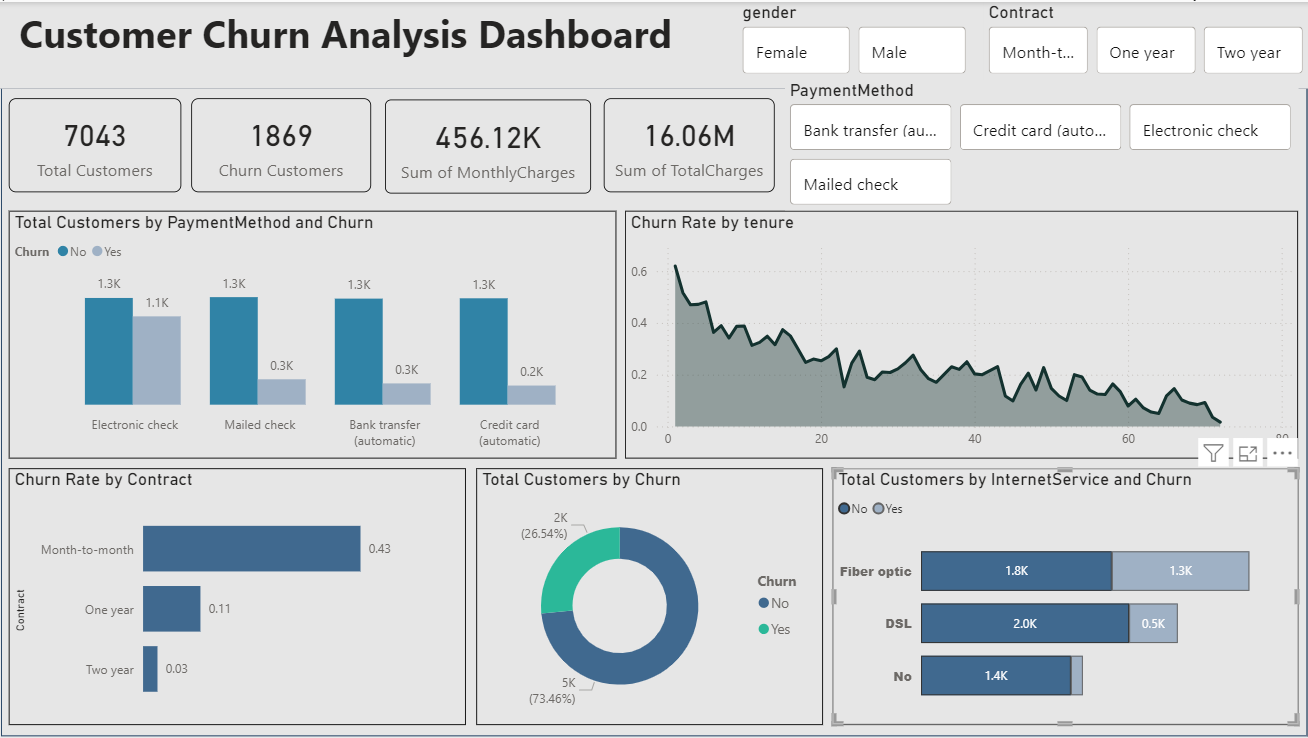

Layout of this report page (visuals, bound fields, positions):
{"tool":"powerbi","page":{"name":"DASHBOARD","canvas":[1280,720],"ordinal":2},"visuals":[{"type":"shape","box":[0,0,1280.3,719.7],"z":0},{"type":"shape","box":[0,0,1280.3,84.5],"z":1000},{"type":"barChart","fields":{"Category":["telco customer churan file.Contract"],"Y":["telco customer churan file.Churn Rate"]},"box":[8.7,456.2,447.5,251.1],"z":2000},{"type":"areaChart","fields":{"Category":["telco customer churan file.tenure"],"Y":["telco customer churan file.Churn Rate"]},"box":[611.5,203.8,658.8,242.4],"z":3000},{"type":"donutChart","fields":{"Category":["telco customer churan file.Churn"],"Y":["telco customer churan file.Total Customers"]},"box":[466.1,456.2,339.3,251.1],"z":4000},{"type":"clusteredBarChart","fields":{"Category":["telco customer churan file.InternetService"],"Y":["telco customer churan file.Total Customers"],"Series":["telco customer churan file.Churn"]},"box":[814.1,456.2,456.2,251.1],"z":5000},{"type":"card","fields":{"Values":["telco customer churan file.Total Customers"]},"box":[8.6,94.2,168.8,91.7],"z":6000},{"type":"card","fields":{"Values":["telco customer churan file.Churn Customers"]},"box":[187.1,94.2,176.1,91.7],"z":7000},{"type":"card","fields":{"Values":["Sum(telco customer churan file.MonthlyCharges)"]},"box":[376.6,95.4,201.8,91.7],"z":8000},{"type":"clusteredColumnChart","fields":{"Category":["telco customer churan file.PaymentMethod"],"Series":["telco customer churan file.Churn"],"Y":["telco customer churan file.Total Customers"]},"box":[8.6,204.2,594.3,242.1],"z":9000},{"type":"textbox","box":[0,0,1280.3,84.5],"z":10000},{"type":"card","fields":{"Values":["Sum(telco customer churan file.TotalCharges)"]},"box":[590.6,94.2,167.5,91.7],"z":11000},{"type":"advancedSlicerVisual","fields":{"Values":["telco customer churan file.Contract"]},"box":[962.4,0,317.9,75.8],"z":12000},{"type":"advancedSlicerVisual","fields":{"Values":["telco customer churan file.gender"]},"box":[721.5,0,228.7,75.8],"z":13000},{"type":"advancedSlicerVisual","fields":{"Values":["telco customer churan file.PaymentMethod"]},"box":[767.9,75.8,502.6,128.4],"z":13001}]}

Visuals, with their boxes in screenshot pixels (x1, y1, x2, y2), scaled from the page's 1280x720 canvas onto the 1308x738 screenshot:
shape: [0, 0, 1307, 737]
shape: [0, 0, 1307, 87]
barChart - telco customer churan file.Contract x telco customer churan file.Churn Rate: [9, 468, 466, 725]
areaChart - telco customer churan file.tenure x telco customer churan file.Churn Rate: [625, 209, 1298, 457]
donutChart - telco customer churan file.Churn x telco customer churan file.Total Customers: [476, 468, 823, 725]
clusteredBarChart - telco customer churan file.InternetService x telco customer churan file.Total Customers: [832, 468, 1298, 725]
card - telco customer churan file.Total Customers: [9, 97, 181, 191]
card - telco customer churan file.Churn Customers: [191, 97, 371, 191]
card - Sum(telco customer churan file.MonthlyCharges): [385, 98, 591, 192]
clusteredColumnChart - telco customer churan file.PaymentMethod x telco customer churan file.Churn: [9, 209, 616, 457]
textbox: [0, 0, 1307, 87]
card - Sum(telco customer churan file.TotalCharges): [604, 97, 775, 191]
advancedSlicerVisual - telco customer churan file.Contract: [983, 0, 1307, 78]
advancedSlicerVisual - telco customer churan file.gender: [737, 0, 971, 78]
advancedSlicerVisual - telco customer churan file.PaymentMethod: [785, 78, 1298, 209]
